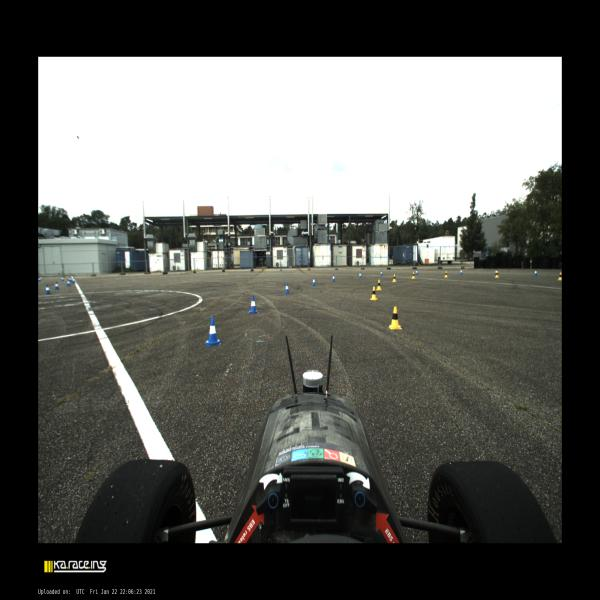blue_cone: (205, 317, 221, 347), (248, 296, 258, 314), (284, 282, 290, 294), (45, 284, 52, 294), (54, 282, 60, 290), (312, 277, 316, 286), (67, 279, 71, 286), (534, 269, 538, 276), (72, 277, 76, 283), (332, 274, 335, 282), (69, 276, 72, 282), (38, 276, 41, 282), (359, 272, 362, 278), (380, 270, 383, 276), (494, 269, 497, 275), (61, 276, 64, 281), (416, 269, 418, 275), (460, 269, 462, 274)
yellow_cone: (389, 306, 402, 330), (370, 286, 378, 300), (376, 280, 382, 290), (557, 272, 562, 280), (392, 274, 397, 282), (444, 270, 448, 278), (495, 271, 499, 278), (412, 272, 415, 279)
